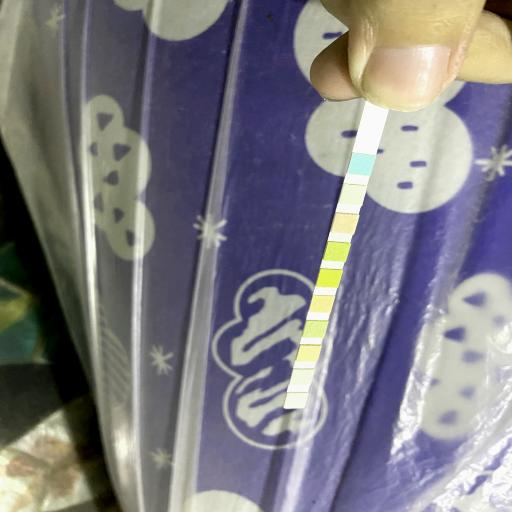Bilirubin: (344, 186, 362, 203)
Blood: (320, 270, 337, 286)
Glucose: (352, 155, 372, 173)
Ketone: (336, 215, 355, 232)
Leukocytes: (287, 394, 305, 407)
Nitrite: (294, 370, 310, 384)
Protein: (308, 322, 324, 337)
SpGravity: (328, 244, 346, 260)
Urobilinogen: (300, 346, 317, 361)
pH: (313, 296, 331, 312)
strip: (283, 100, 388, 409)
